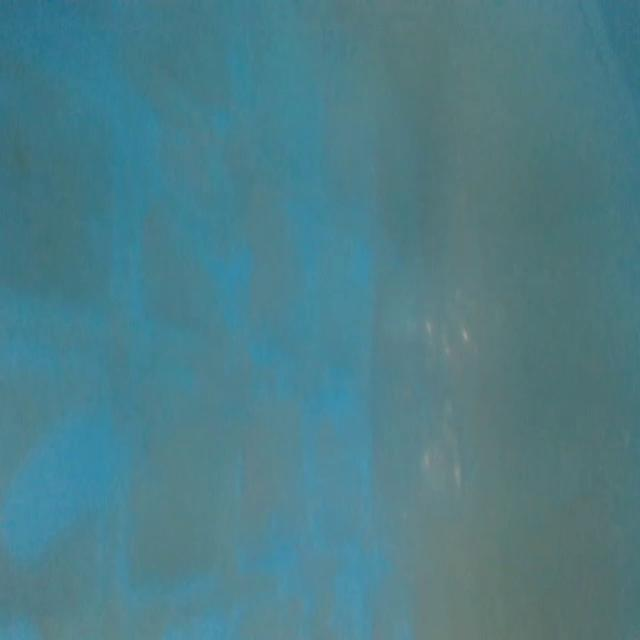plastic bottle: (388, 284, 491, 544)
